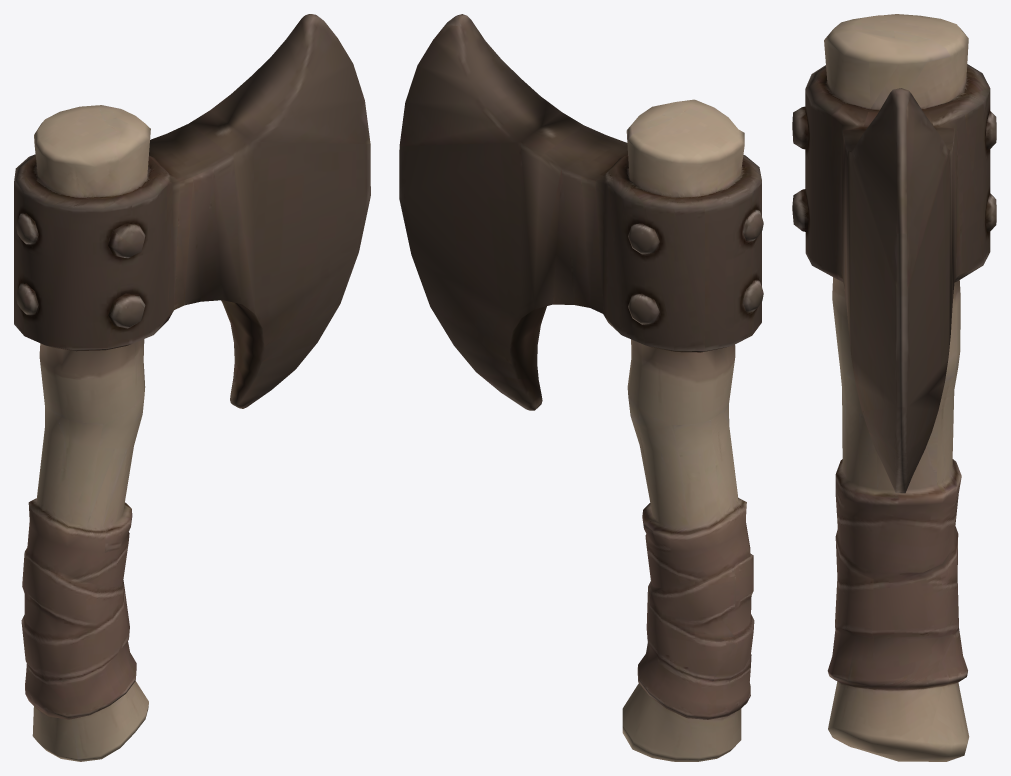
The model's file is axe_wynd_starter.glb.
3 renders of one model, left to right at view 1: azimuth 30°, elevation 25°; view 2: azimuth 150°, elevation 25°; view 3: azimuth 270°, elevation 25°, orthographic. The views are drawn at different scales.
Parts seen in each view (by area): view 1: tripo_node_476993a7-ac0f-4c46-975a-aa339f05ff0f; view 2: tripo_node_476993a7-ac0f-4c46-975a-aa339f05ff0f; view 3: tripo_node_476993a7-ac0f-4c46-975a-aa339f05ff0f.
Part boxes in pixels (box(x1,y1,x2,y2)): tripo_node_476993a7-ac0f-4c46-975a-aa339f05ff0f: box(14, 14, 370, 761); tripo_node_476993a7-ac0f-4c46-975a-aa339f05ff0f: box(399, 14, 763, 761); tripo_node_476993a7-ac0f-4c46-975a-aa339f05ff0f: box(792, 14, 996, 761).
Size of the model in its own units: 0.7913 by 1.45 by 0.3381.
1 material, 1 textured.
